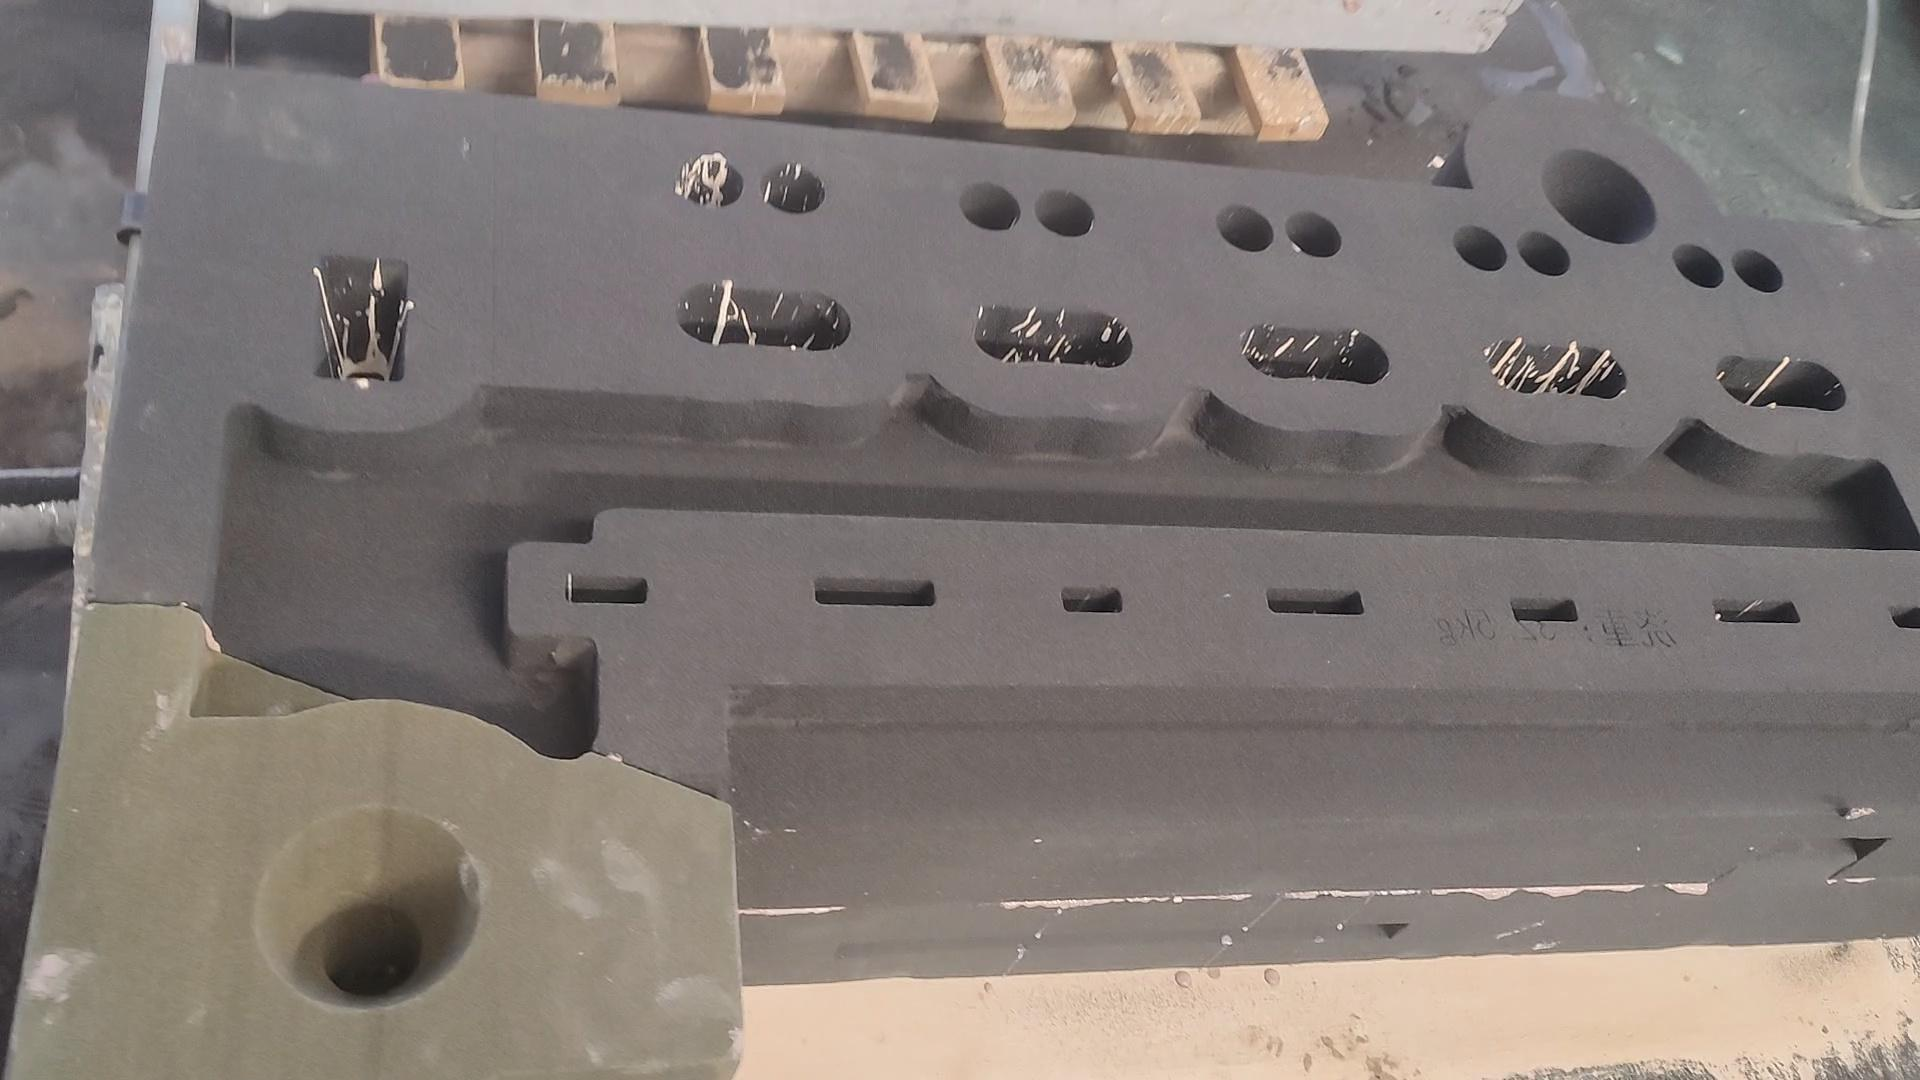pouring hole: (252, 804, 480, 1011), (1540, 146, 1658, 244)
